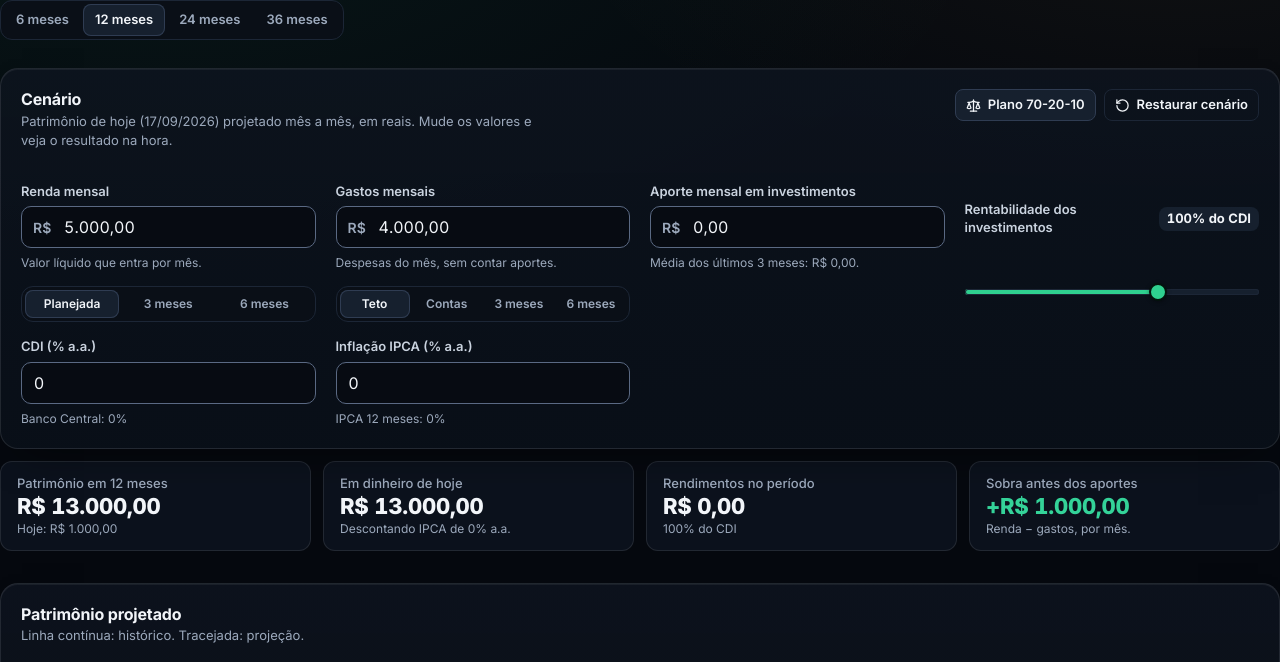
Test: ProjectionsPage › ajusta a rentabilidade pelo slider com texto acessível
This screenshot has width=1280, height=662.
Expected: the element named "Resultado da projeção" is shown, x1=0 y1=461 x2=1279 y2=551
Set the slider labelled "Rentabilidade dos investimentos" to "120" at [1195, 292], box x1=964 y1=280 x2=1259 y2=304
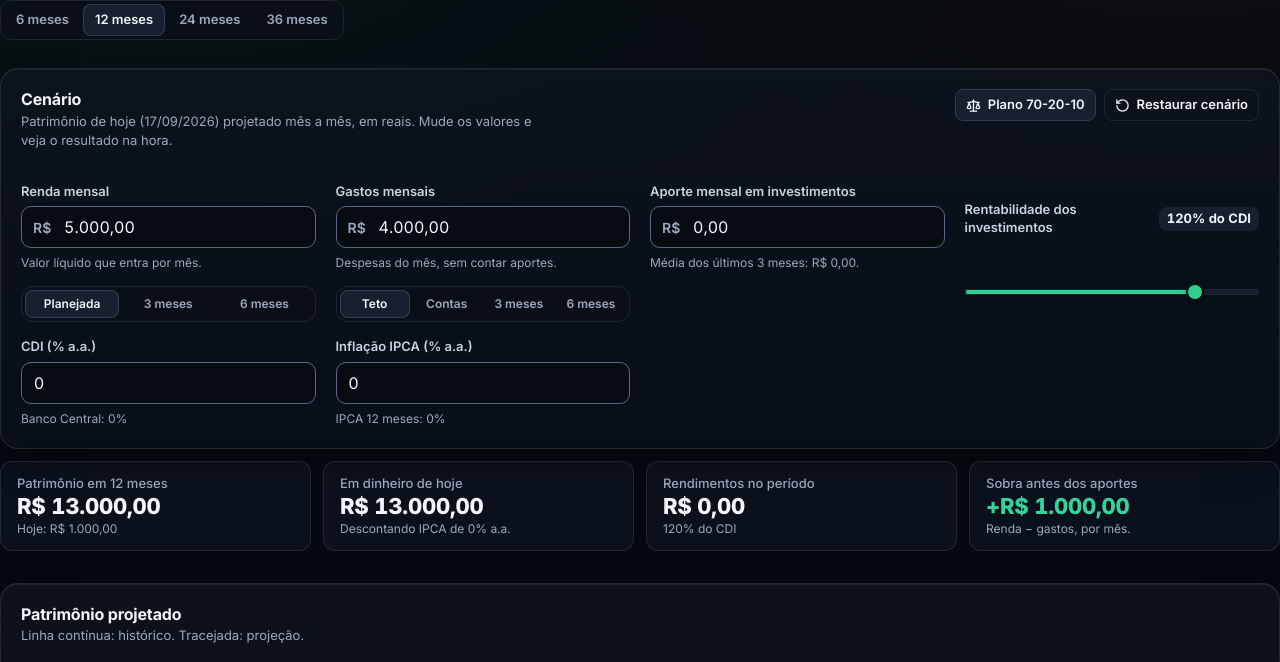
Expected: the text "120% do CDI" next to "Rentabilidade dos investimentos" is shown, x1=1159 y1=207 x2=1259 y2=231
